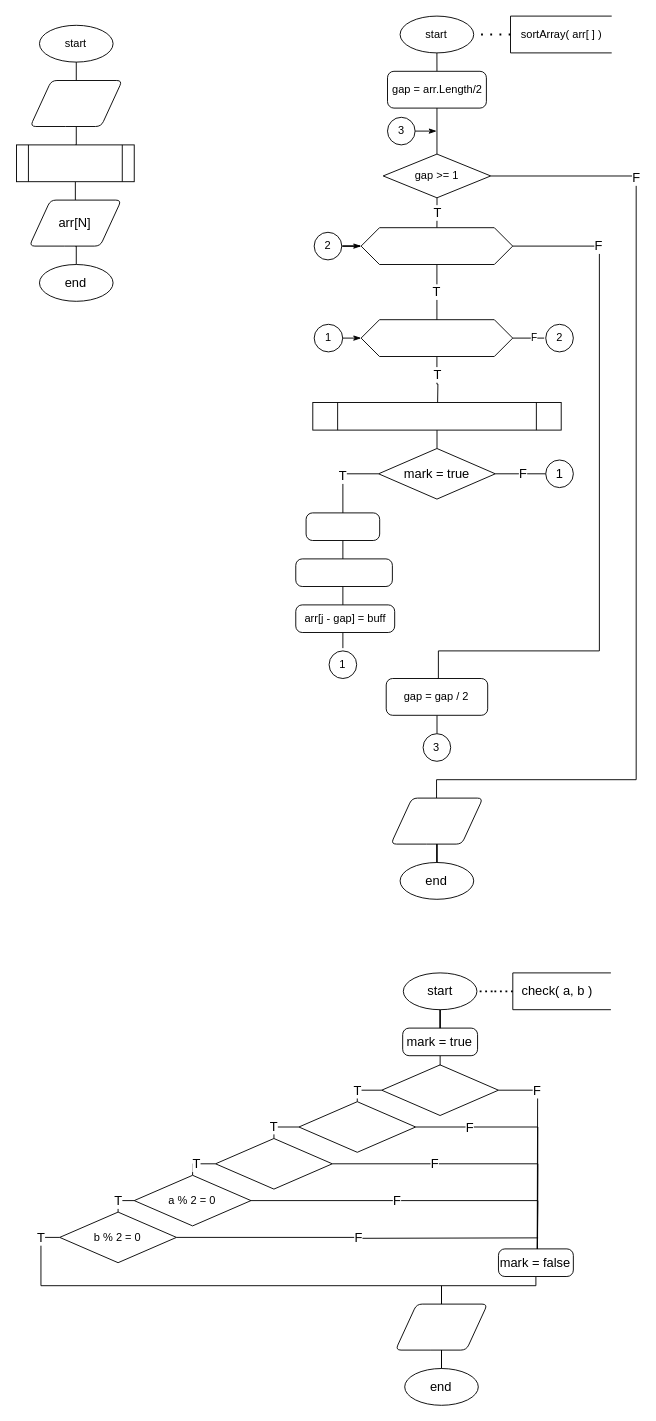
The diagram is 656 pixels wide and 1421 high, and some of its shapes have lost their labels. Here are the shapes that lost their labels. From the top down, the centre of each, then its label:
At (x=75, y=103): "N, arr[N],".
At (x=75, y=163): "arr = sortArray(arr)".
At (x=436, y=245): "i = gap; i < arr.Length; i++".
At (x=436, y=337): "j = i; j >= gap; j = j - gap".
At (x=436, y=416): "mark = check(arr[ j - gap ], arr[ j ])".
At (x=342, y=526): "buff = arr[ j ]".
At (x=343, y=572): "arr[ j ] = arr[j - gap]".
At (x=436, y=820): "arr[ ]".
At (x=439, y=1090): "| a | > | b |".
At (x=357, y=1126): "a < 0".
At (x=273, y=1163): "b < 0".
At (x=441, y=1326): "mark".
